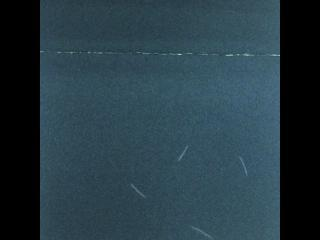crack: (40, 41, 280, 66)
scratch: (184, 220, 216, 240), (127, 178, 149, 204), (235, 155, 254, 182), (174, 141, 192, 165)
